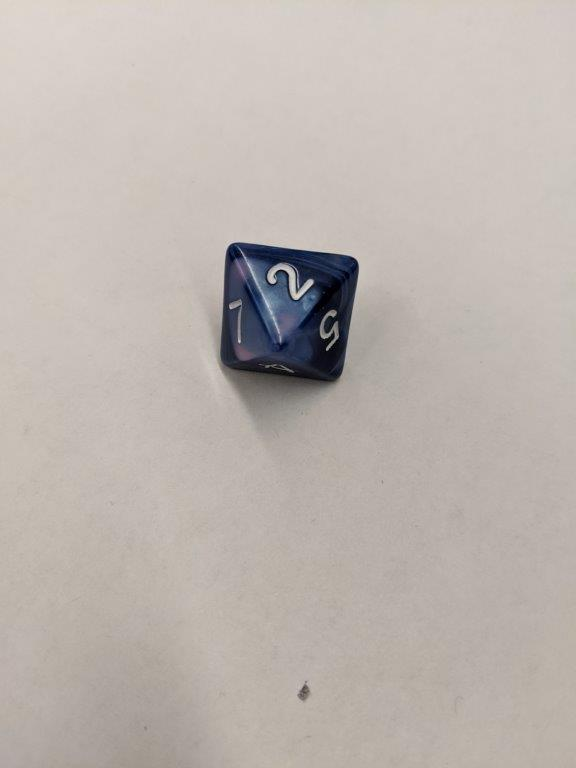d8-2: (218, 240, 360, 380)
